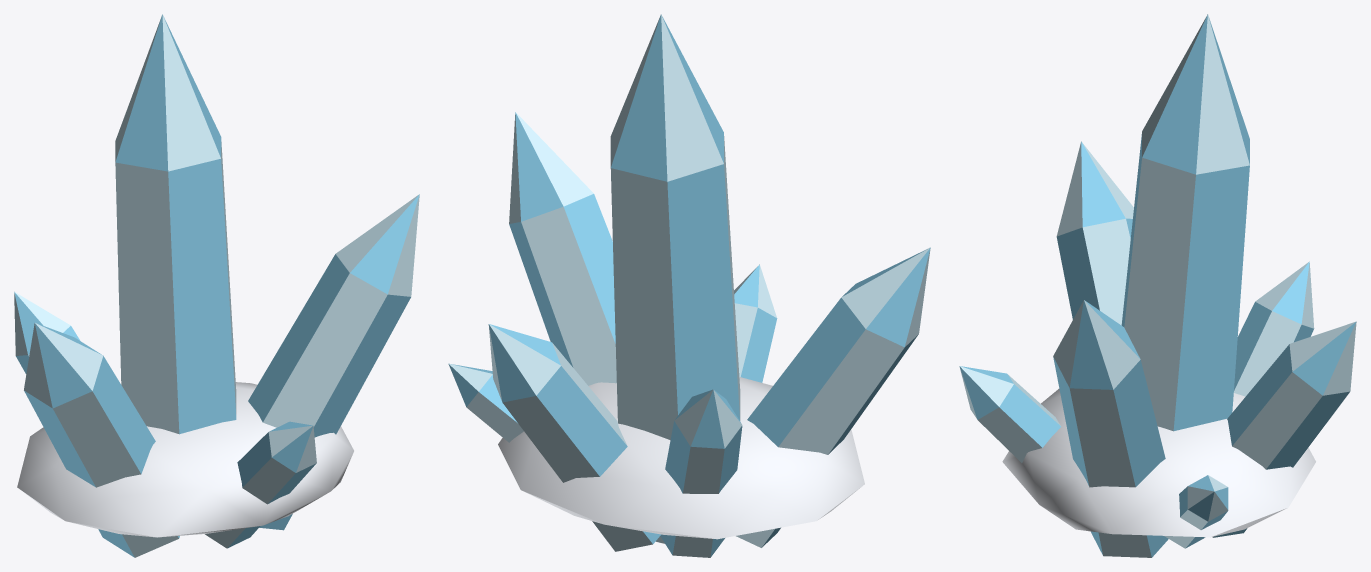
File: ice_spike.glb
The picture shows the model from 3 angles, left to right: view 1: azimuth 30°, elevation 25°; view 2: azimuth 150°, elevation 25°; view 3: azimuth 270°, elevation 25°; orthographic projection. The views are drawn at different scales.
Parts seen in each view (by area): view 1: ice_spike; view 2: ice_spike; view 3: ice_spike.
Part boxes in pixels (x1,y1,x2,y2): ice_spike: (14, 14, 419, 557); ice_spike: (448, 14, 930, 557); ice_spike: (959, 14, 1356, 557).
Bounding box in the file's own units: 2.76 × 3.4 × 2.4.
